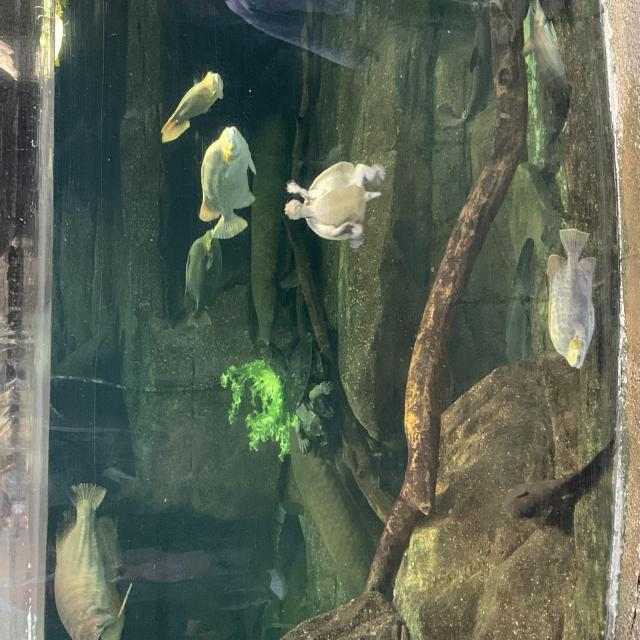fish: (49, 479, 134, 640), (520, 0, 570, 158), (435, 4, 496, 128), (546, 226, 598, 370), (198, 128, 256, 242), (158, 68, 225, 144), (183, 229, 226, 329)
